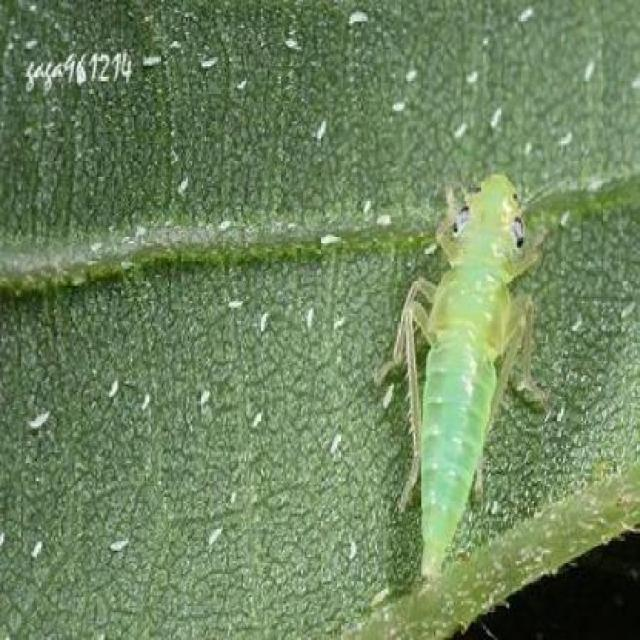green-leafhopper: (391, 172, 547, 580)
